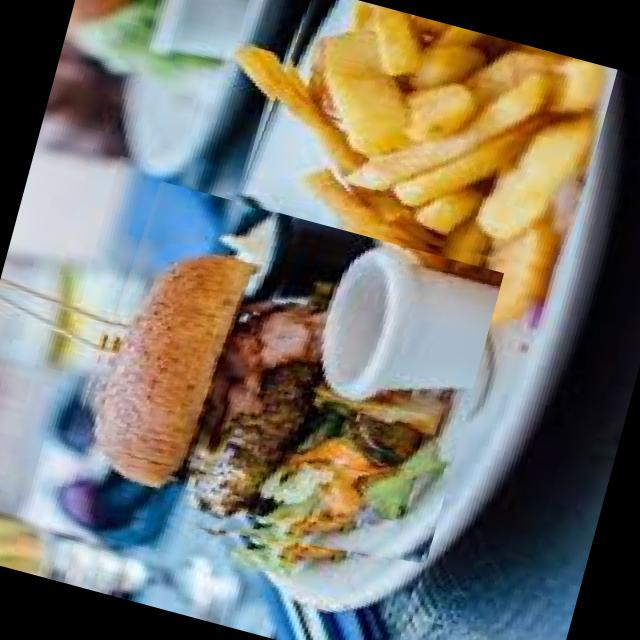Organic: (51, 174, 503, 600), (235, 0, 617, 289)
